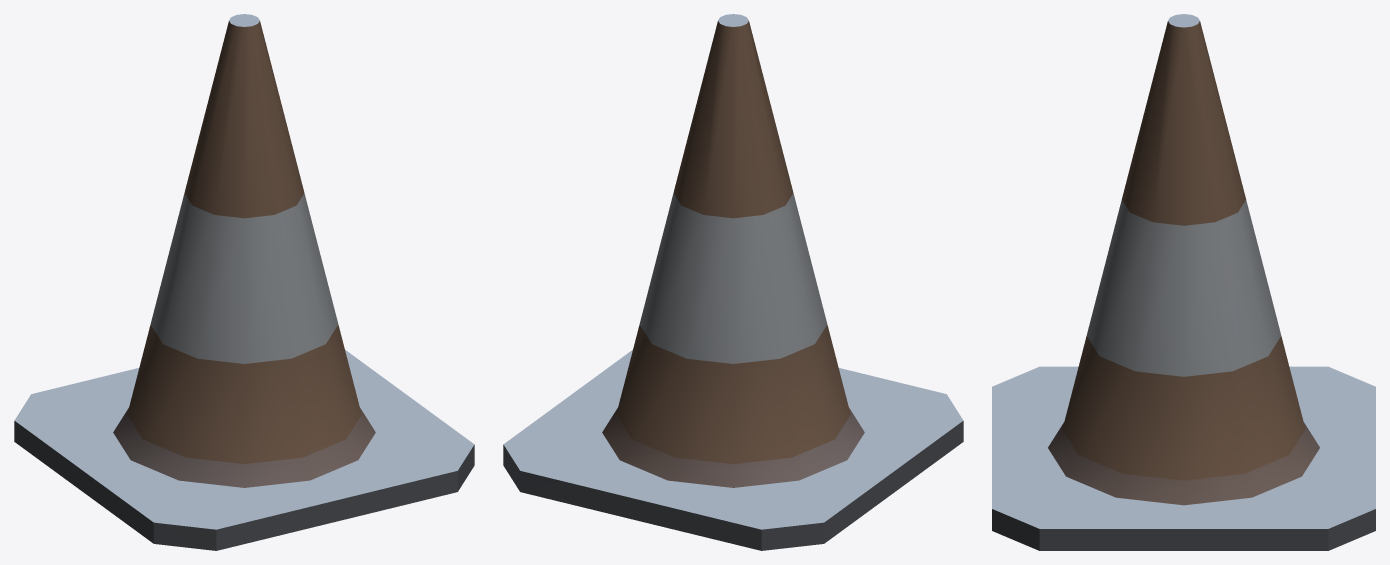
File: traffic_cone.glb
3 renders of one model, left to right at view 1: azimuth 30°, elevation 25°; view 2: azimuth 150°, elevation 25°; view 3: azimuth 270°, elevation 25°, orthographic. The views are drawn at different scales.
Parts seen in each view (by area): view 1: Prop; view 2: Prop; view 3: Prop.
Part boxes in pixels (<box>): Prop: <box>14,14,474,550</box>; Prop: <box>503,14,963,550</box>; Prop: <box>992,14,1375,550</box>.
Size of the model in its own units: 0.5423 by 0.7 by 0.5423.
